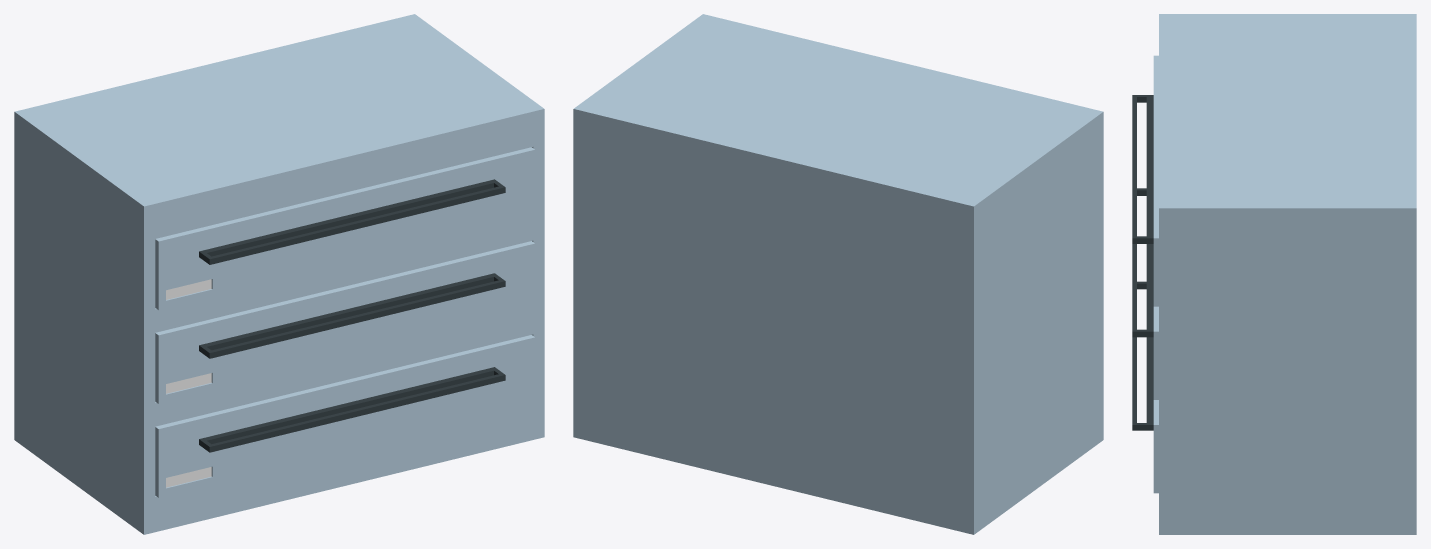
The model's file is CabinetV2White.fbx.
3 renders of one model, left to right at view 1: azimuth 30°, elevation 25°; view 2: azimuth 150°, elevation 25°; view 3: azimuth 270°, elevation 25°, orthographic.
Visible parts, largest first — view 1: CabinetV2White, CabinetV2White_Drawer1, CabinetV2White_Drawer2, CabinetV2White_Drawer3; view 2: CabinetV2White; view 3: CabinetV2White, CabinetV2White_Drawer1, CabinetV2White_Drawer3, CabinetV2White_Drawer2.
Part boxes in pixels (x1,y1,x2,y2): CabinetV2White: (14, 14, 544, 534); CabinetV2White_Drawer1: (155, 147, 534, 310); CabinetV2White_Drawer2: (155, 241, 534, 403); CabinetV2White_Drawer3: (155, 335, 534, 497); CabinetV2White: (573, 14, 1103, 534); CabinetV2White: (1159, 14, 1416, 534); CabinetV2White_Drawer1: (1132, 55, 1158, 306); CabinetV2White_Drawer3: (1132, 281, 1158, 493); CabinetV2White_Drawer2: (1132, 188, 1158, 399).
Bounding box in the file's own units: 89.32 × 70 × 55.23.
